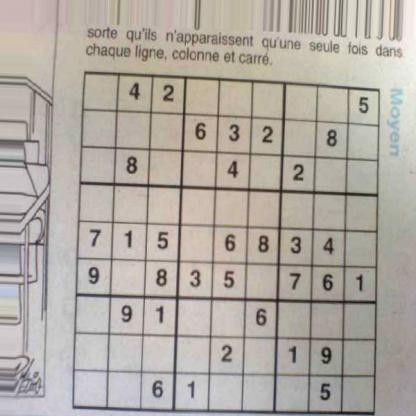sudoku: (69, 63, 384, 416)
